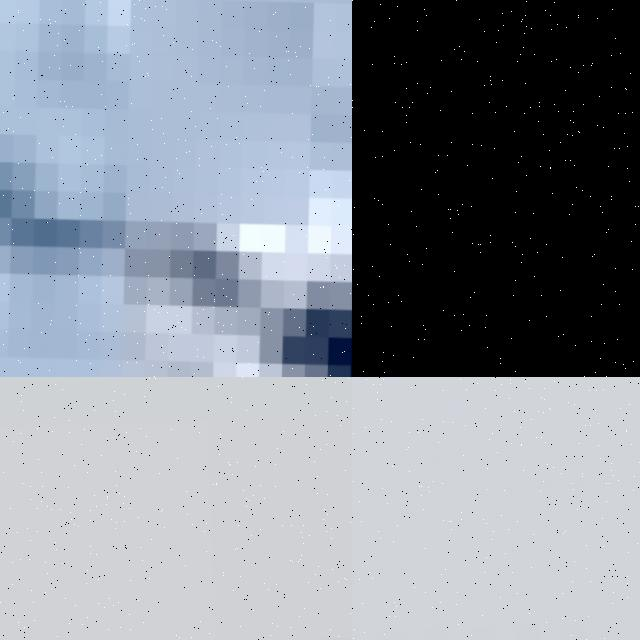drone: (0, 0, 352, 377), (352, 0, 640, 377)
